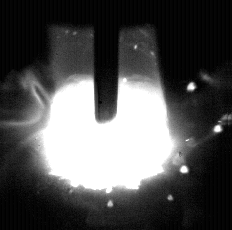arame: (95, 0, 119, 123)
poca: (43, 0, 169, 230)
